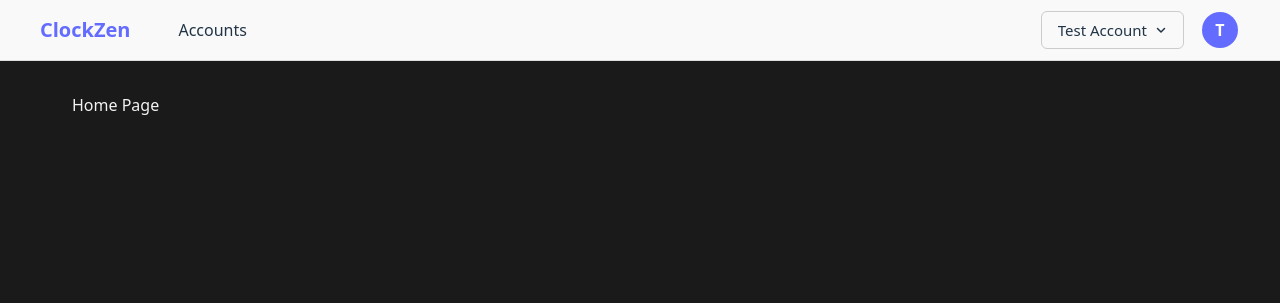
Scenario: Layout › Account Switcher Dropdown › closes dropdown after switching account
The image size is (1280, 303).
Step 1. Click the button "Test Account" → (1112, 30), box [1041,11,1184,49]
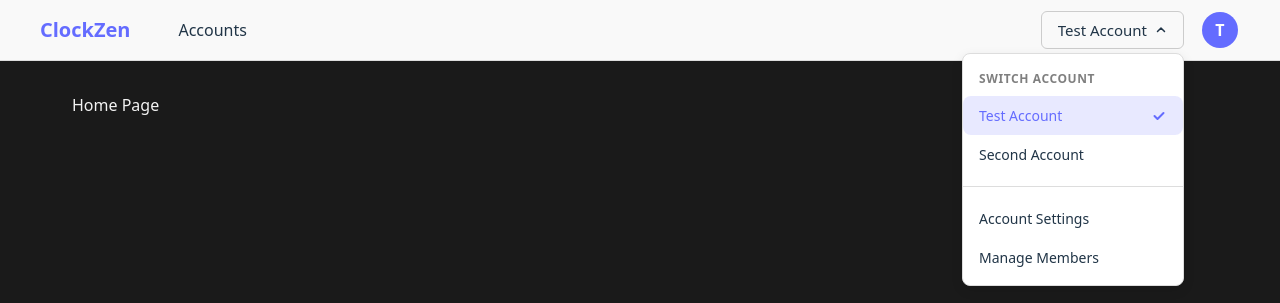
Step 2. Click the menu item "Second Account" → (1073, 154), box [963,135,1183,174]
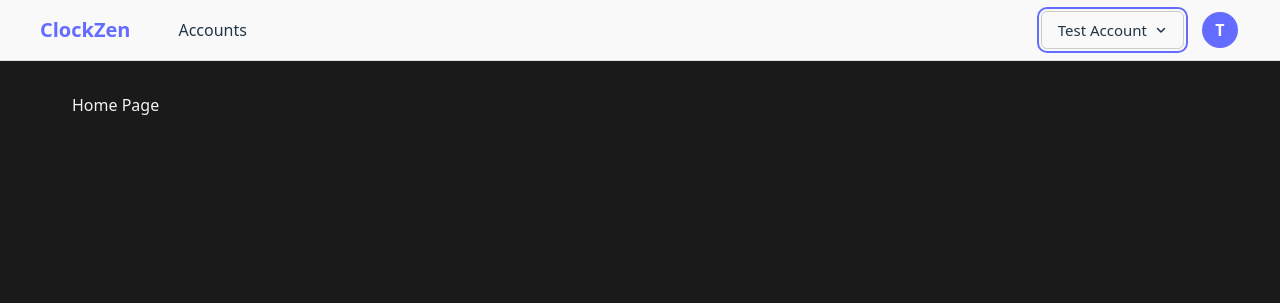
Expected: the text "Switch Account" is gone
